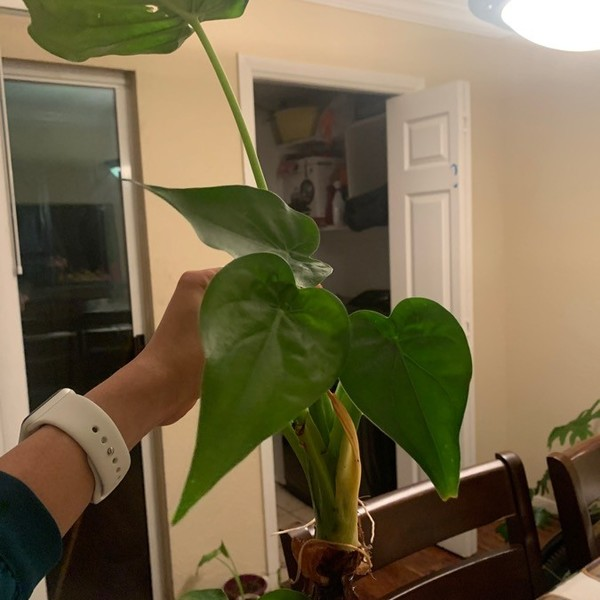obstacle: (67, 4, 484, 553)
